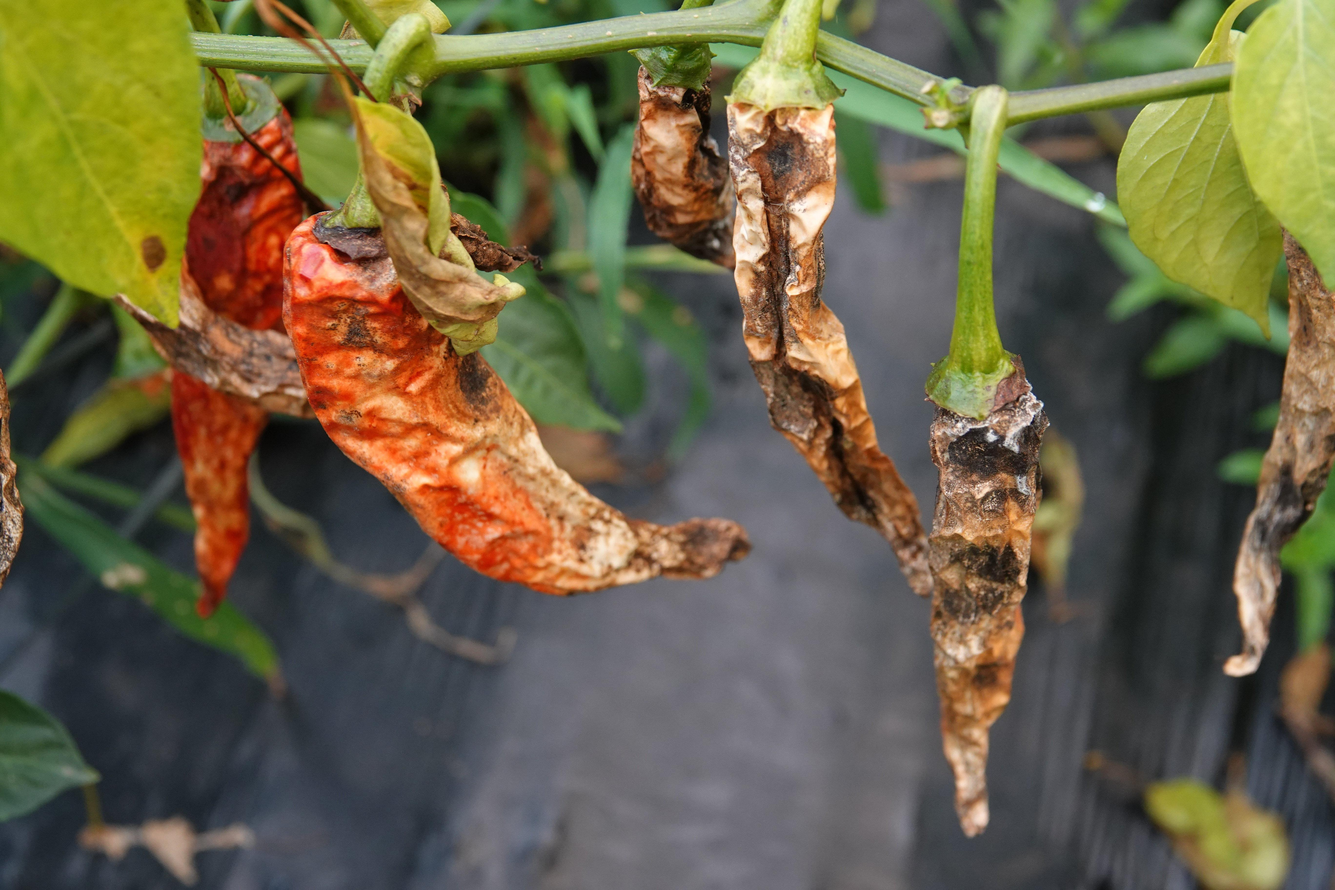Busuk Buah Antraknosa: (277, 193, 752, 598), (729, 57, 929, 612), (161, 68, 310, 620), (925, 352, 1059, 843)
